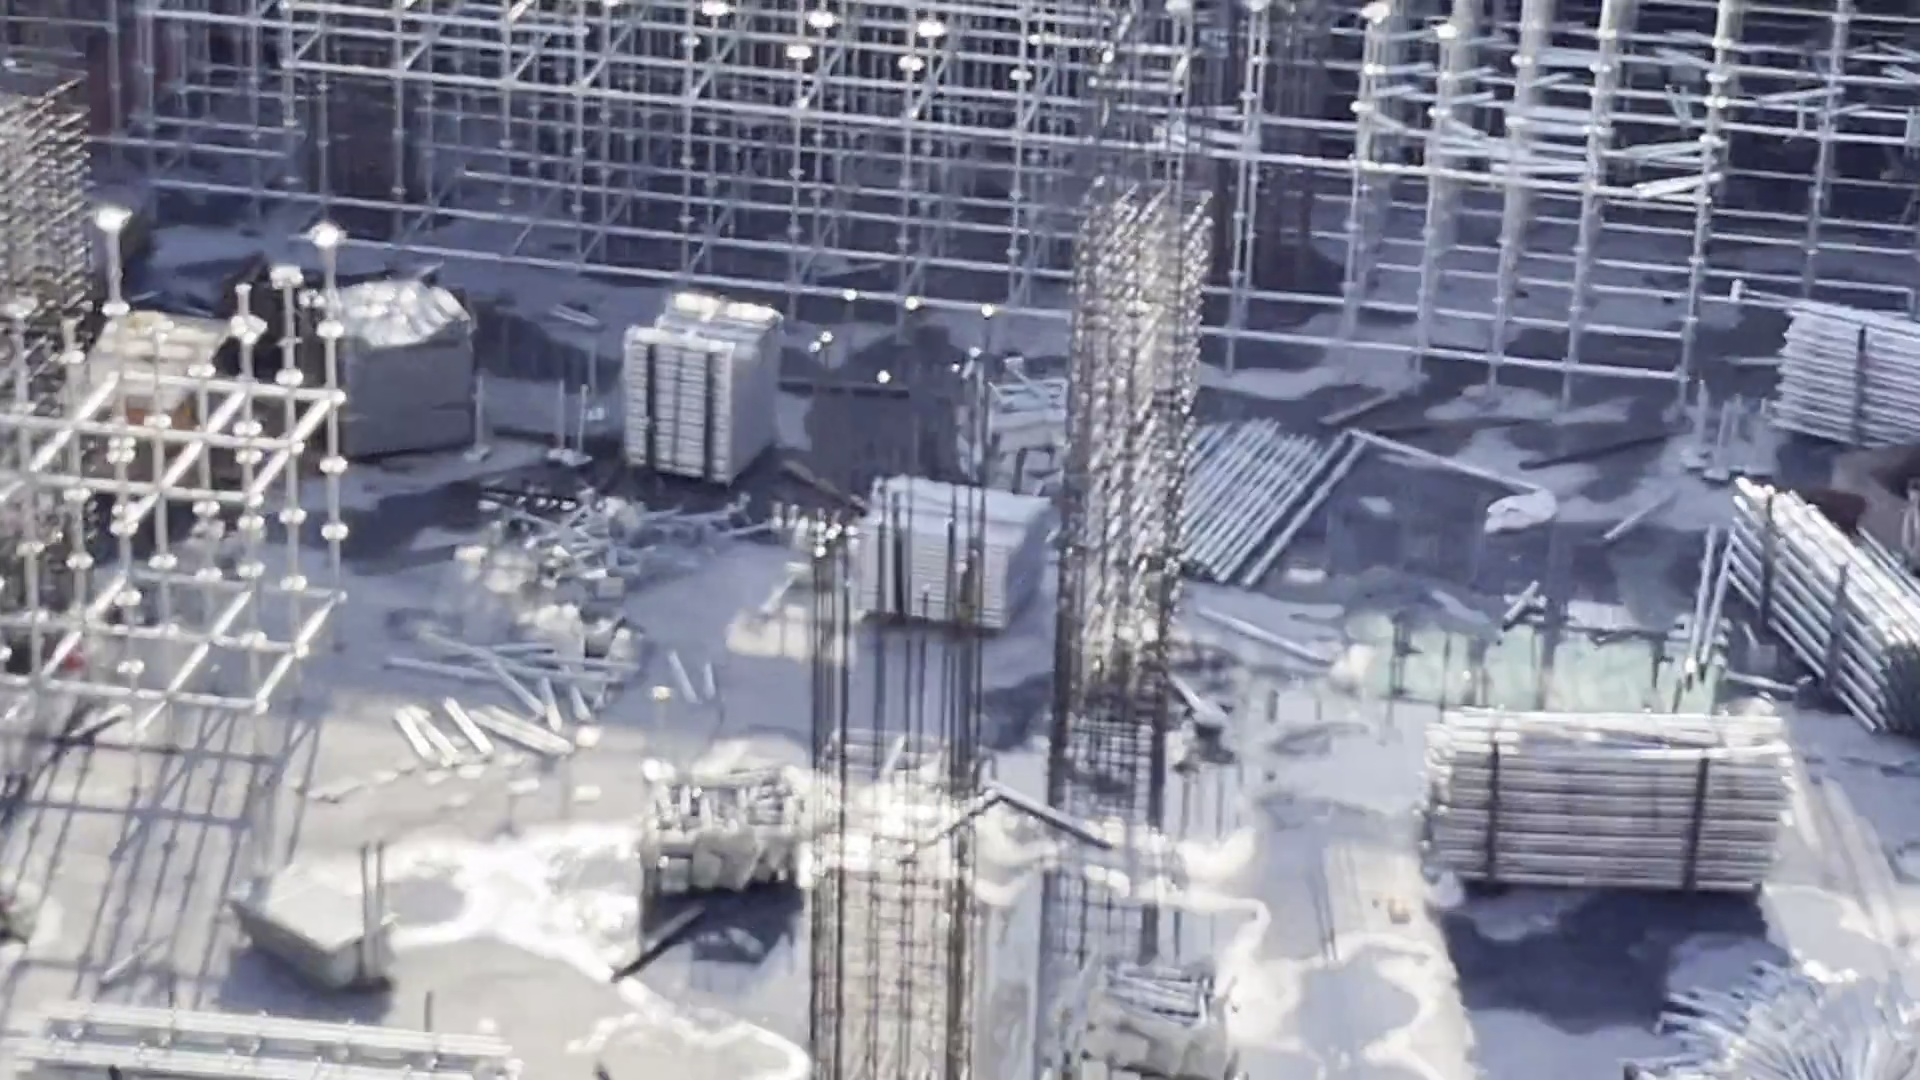cutter: (62, 302, 255, 448)
scaffold: (1418, 717, 1811, 914), (33, 988, 549, 1080), (1730, 469, 1920, 717), (832, 469, 1059, 638), (622, 269, 775, 518), (294, 269, 483, 464), (1156, 407, 1366, 574), (621, 760, 853, 880), (1695, 959, 1892, 1080), (262, 855, 434, 989), (964, 345, 1096, 498), (1782, 305, 1913, 440), (1067, 976, 1230, 1071), (504, 506, 640, 618)
